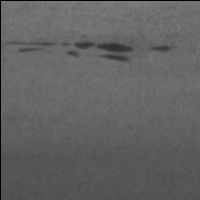inclusion: (2, 36, 136, 69), (148, 40, 178, 58)
